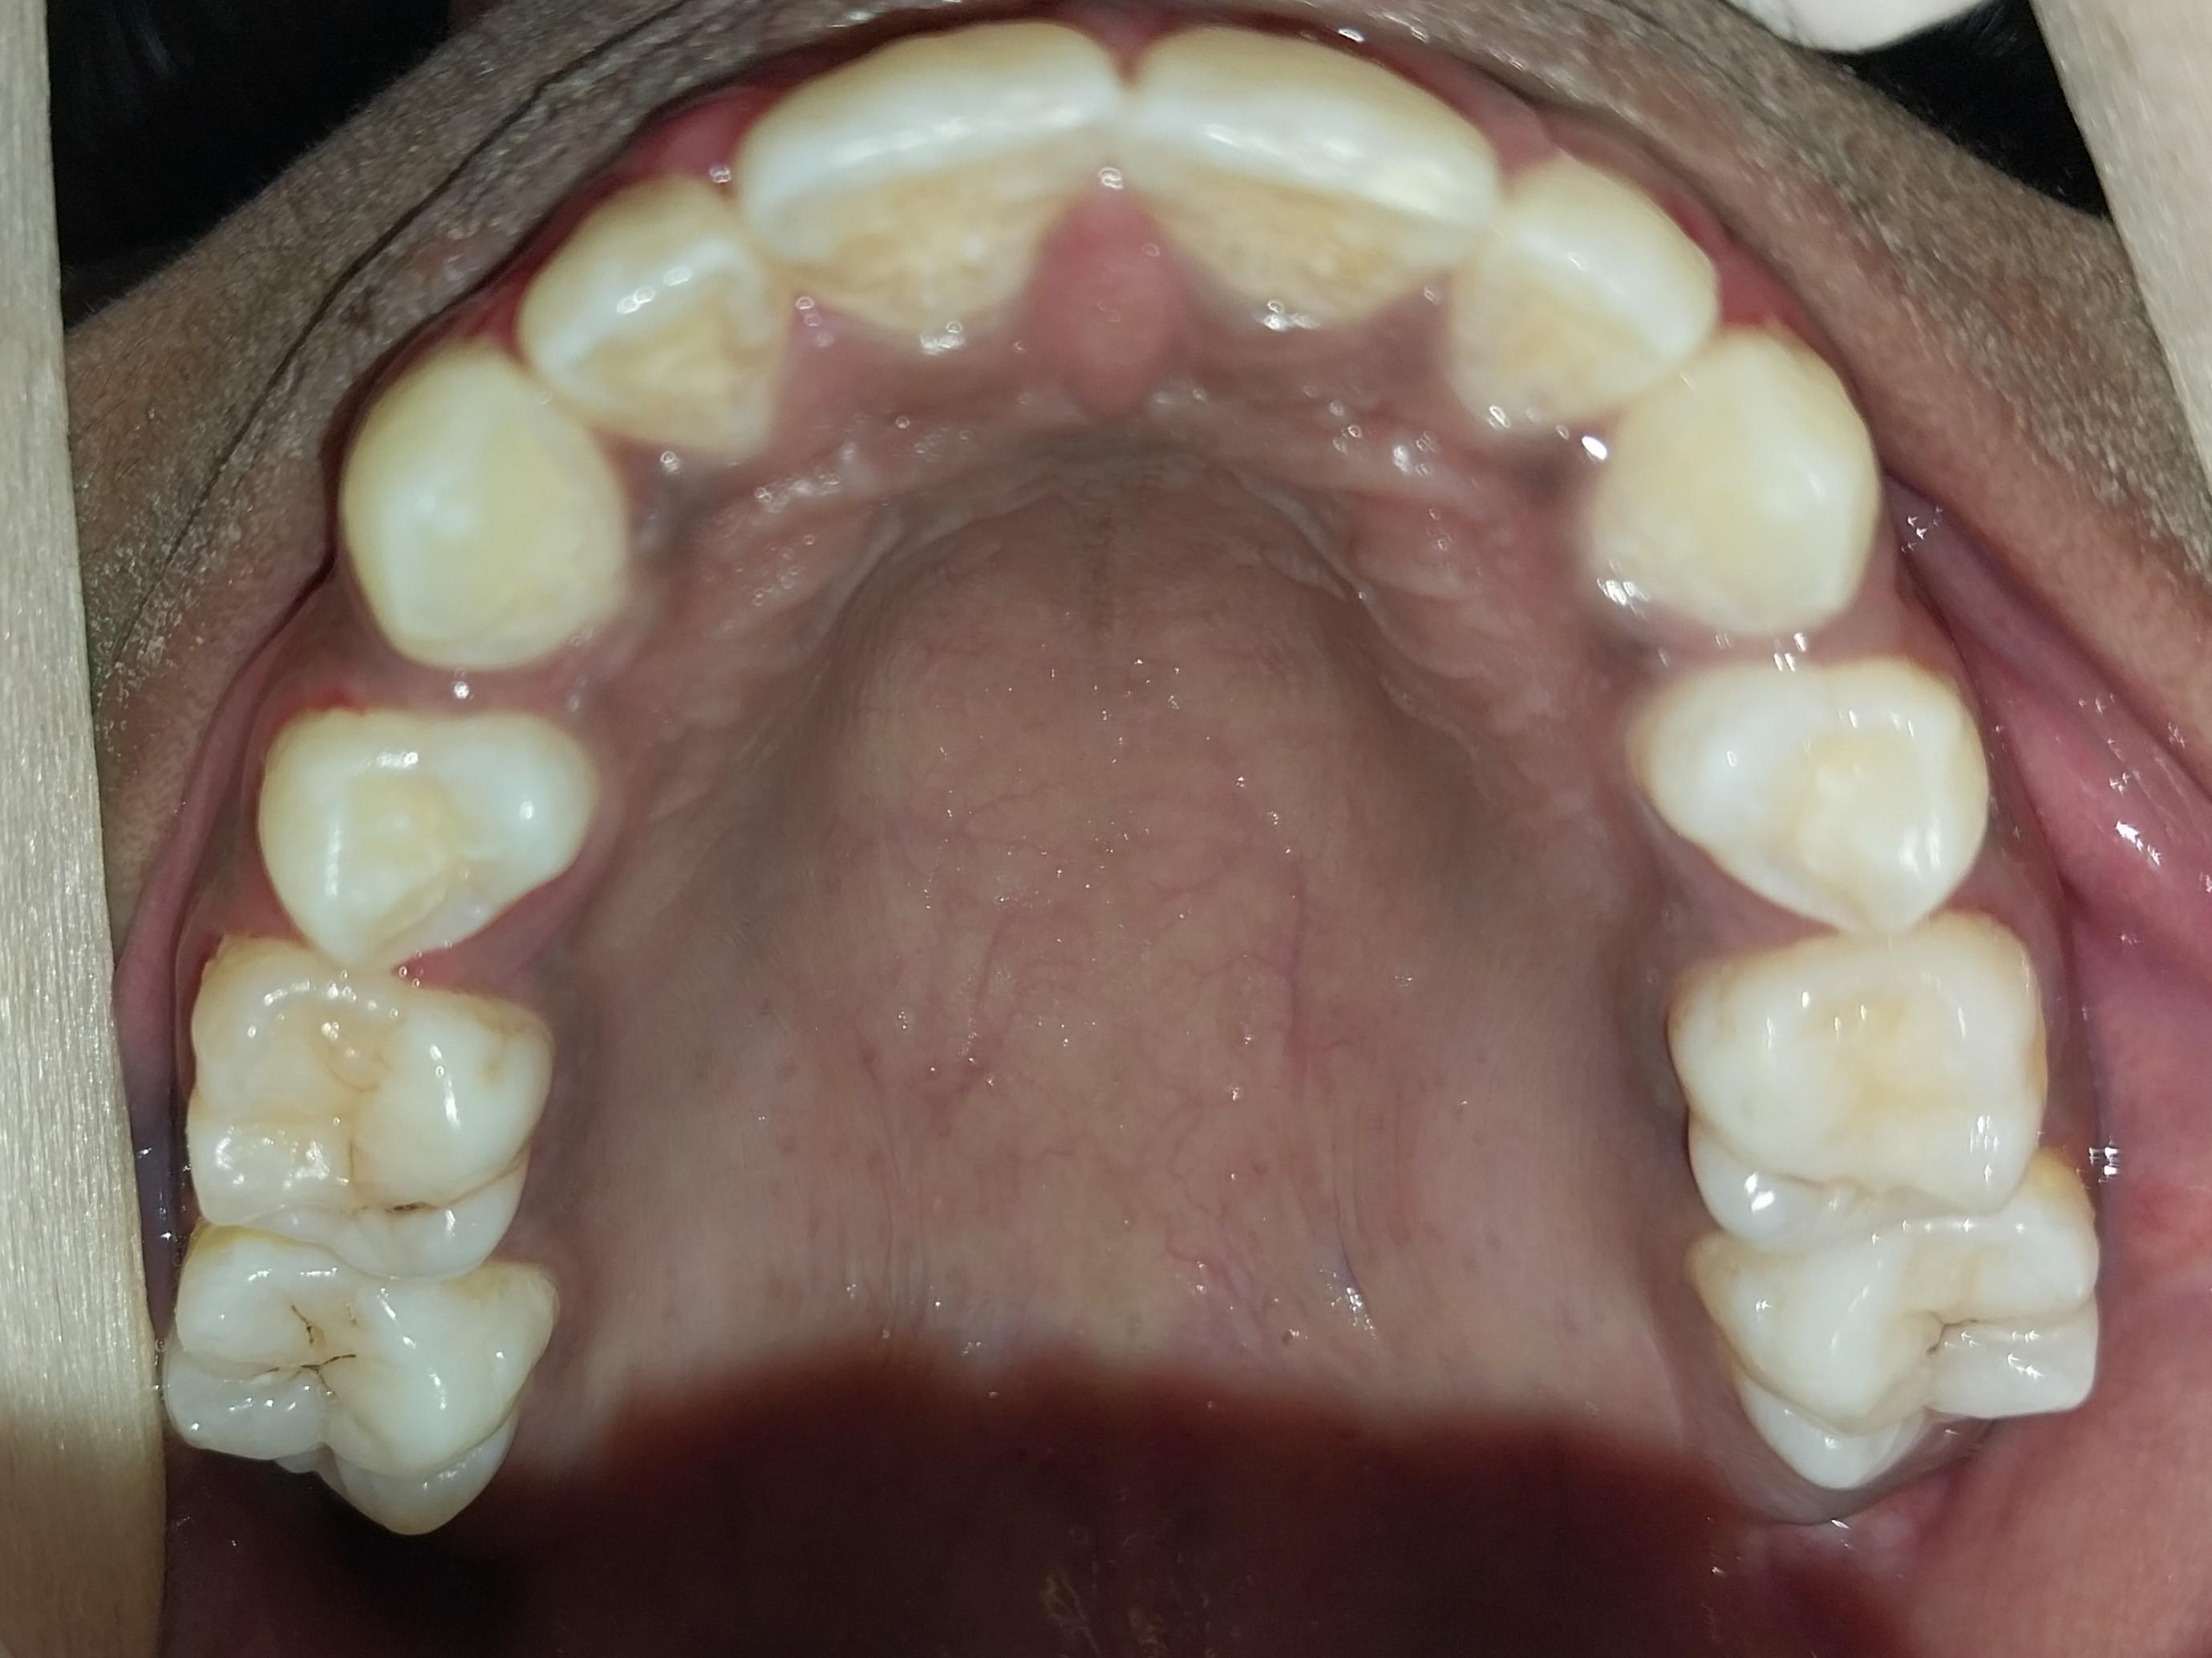D: (1685, 1165, 2105, 1491), (160, 1221, 570, 1538)
d: (180, 940, 553, 1279)
